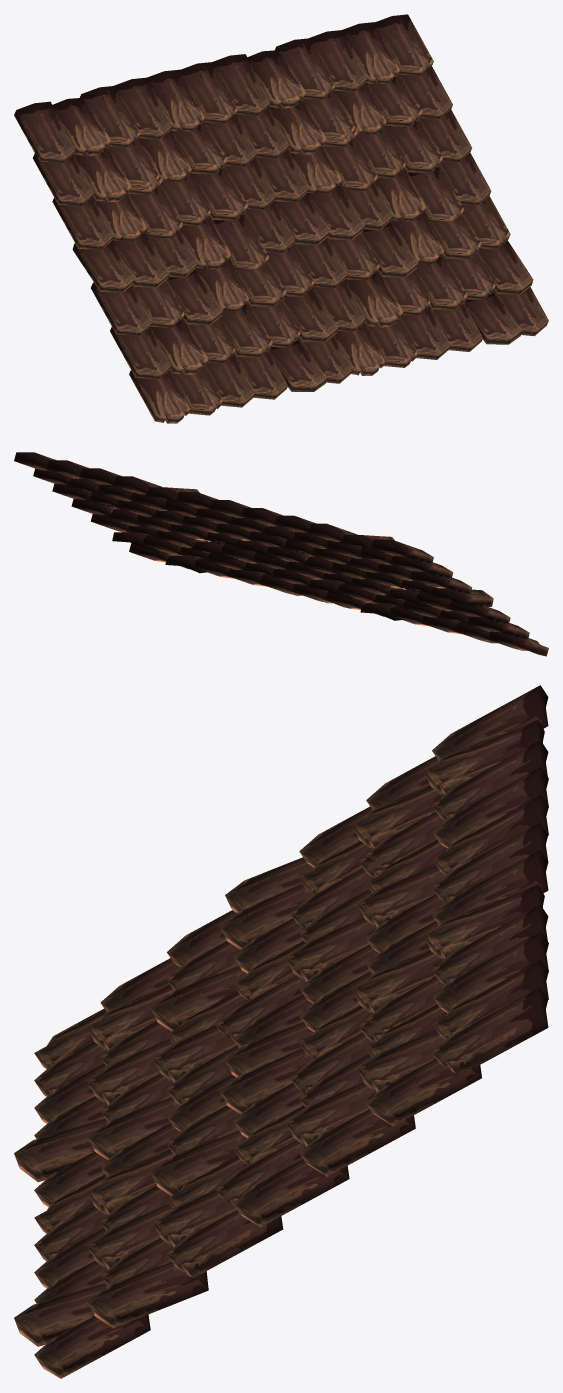
Rendered from VV-RoofTile6.fbx.
The picture shows the model from 3 angles, top to bottom: view 1: azimuth 30°, elevation 25°; view 2: azimuth 150°, elevation 25°; view 3: azimuth 270°, elevation 25°; orthographic projection. The views are drawn at different scales.
Visible parts, largest first — view 1: RoofTile.6; view 2: RoofTile.6; view 3: RoofTile.6.
Part boxes in pixels (x1,y1,x2,y2): RoofTile.6: (14,14,548,423); RoofTile.6: (14,452,548,656); RoofTile.6: (14,685,548,1378).
Bounding box in the file's own units: 3.62 × 1.91 × 2.47.
